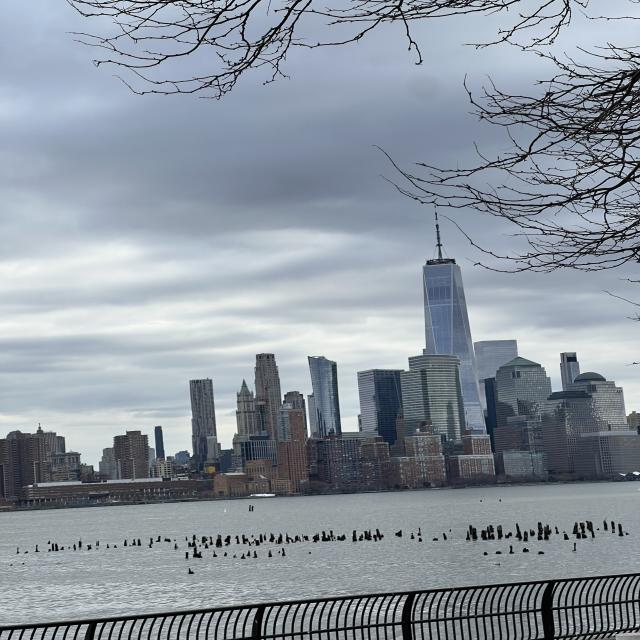WTC: (420, 206, 466, 354)
